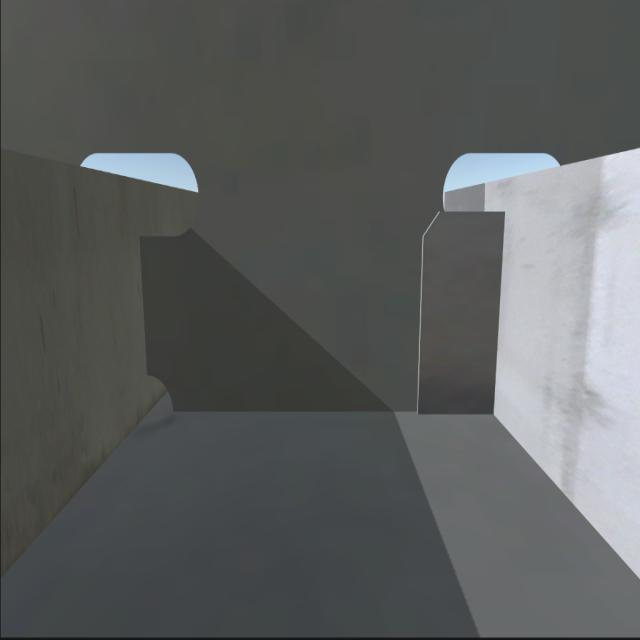fillet_hole: (145, 376, 175, 414)
fillet_yong_jeop_jang: (168, 404, 494, 422)
longi_yong_jeop_jang: (485, 211, 506, 414), (135, 239, 153, 375)
plate_CP03: (412, 198, 504, 414)
